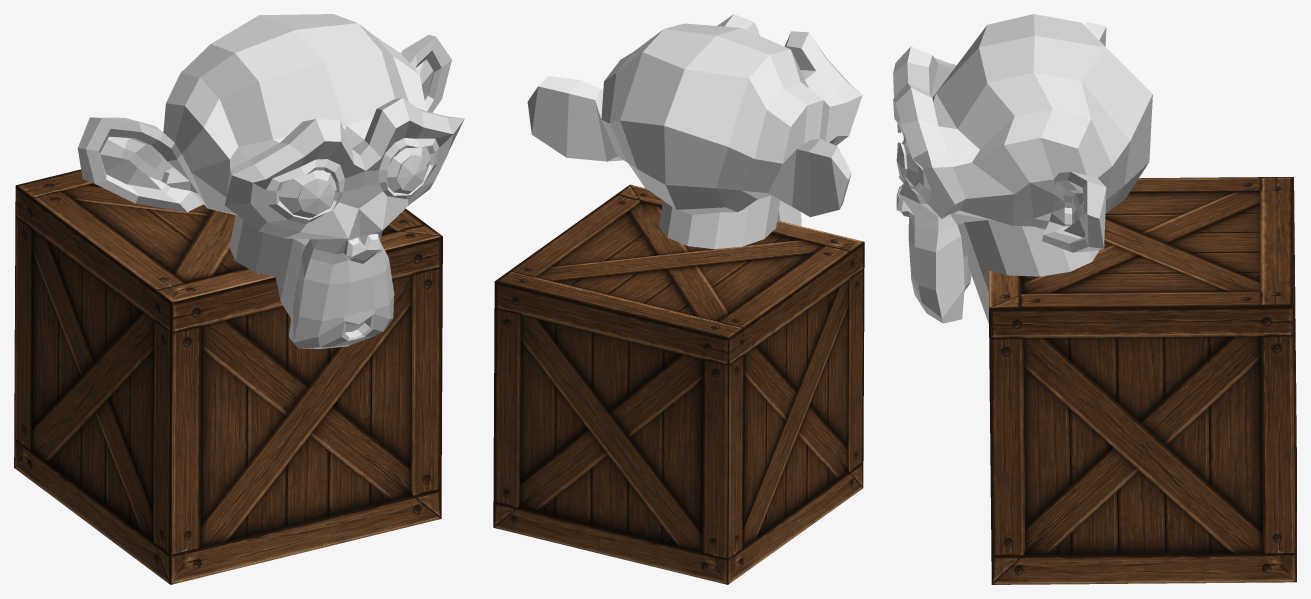
Rendered from Monki Kjub.fbx.
3 views of the same model, side by side, from view 1: azimuth 30°, elevation 25°; view 2: azimuth 150°, elevation 25°; view 3: azimuth 270°, elevation 25° (orthographic). The views are drawn at different scales.
Parts seen in each view (by area): view 1: Monki, Monki.001, Cylinder; view 2: Monki, Monki.001, Cylinder; view 3: Monki, Monki.001, Cylinder.
Boxes of the visible parts, left/top/right/bottom form: Monki: left=14, top=169, right=442, bottom=584; Monki.001: left=77, top=14, right=464, bottom=348; Cylinder: left=229, top=215, right=303, bottom=318; Monki: left=493, top=184, right=864, bottom=584; Monki.001: left=527, top=14, right=862, bottom=225; Cylinder: left=659, top=195, right=780, bottom=249; Monki: left=989, top=177, right=1296, bottom=584; Monki.001: left=893, top=14, right=1152, bottom=323; Cylinder: left=961, top=220, right=1098, bottom=323.
Bounding box in the file's own units: 2.73 × 3.55 × 2.65.
